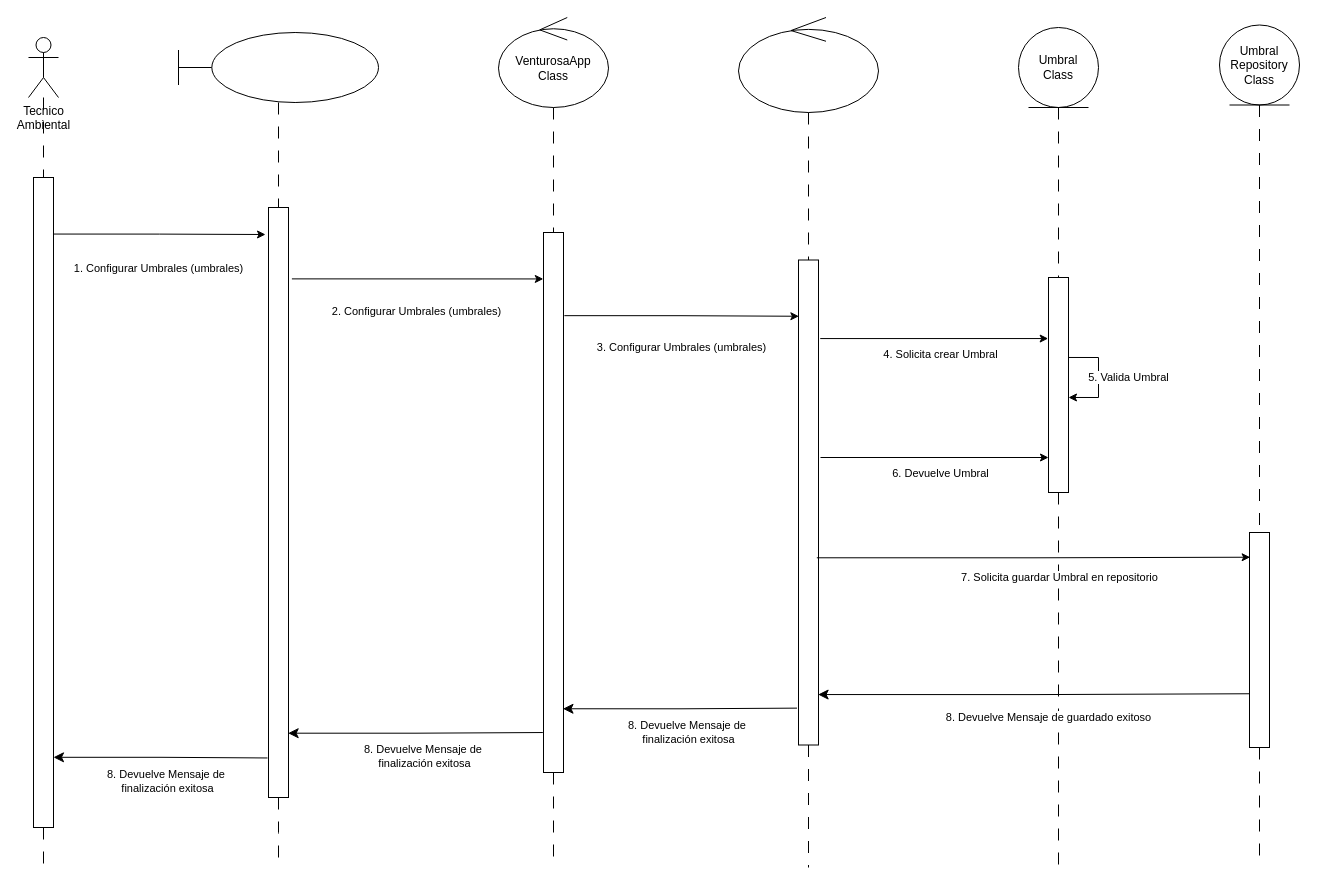
The diagram is 1317 pixels wide and 886 high, and some of its shapes have lost their labels. Here are the shapes that lost their labels. From the top down, the centre of each, then its label:
At pixel 278 67: "UmbralesDeVariablesPanel Class".
At pixel 808 64: "ConfigurarUmbrales UseCase Class".
